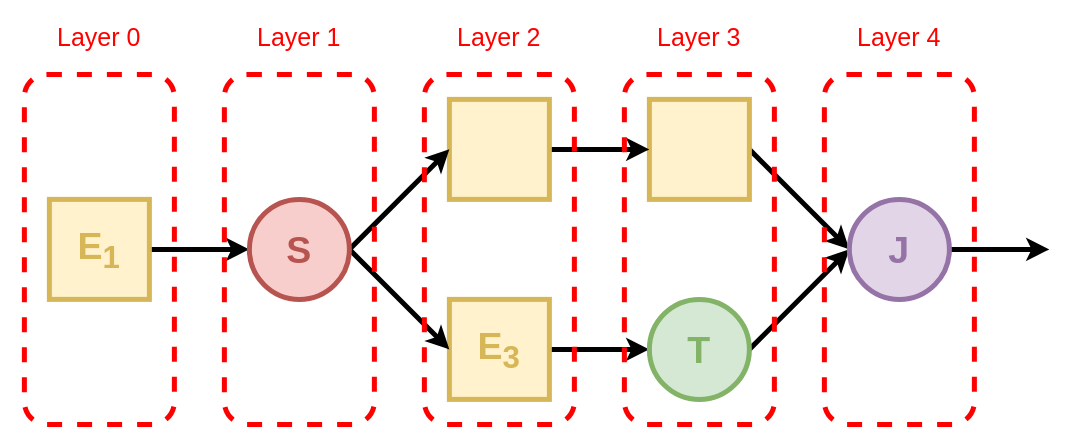
This 1083x448 diagram has some shape labels left out. Each missing label, with the centre of its shape:
"E 2" belongs at point (498, 148).
"E 4" belongs at point (698, 148).
